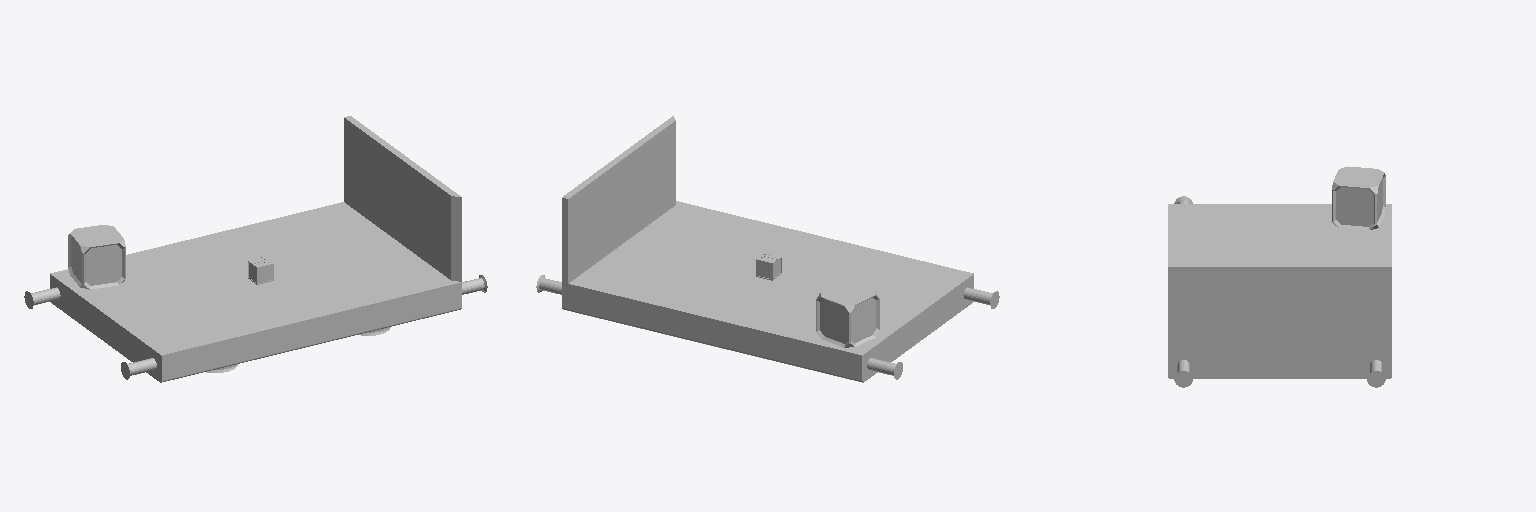
The model's file is levelTest.obj.
3 renders of one model, left to right at view 1: azimuth 30°, elevation 25°; view 2: azimuth 150°, elevation 25°; view 3: azimuth 270°, elevation 25°, orthographic.
Visible parts, largest first — view 1: F_floor_1.001, W_right_wall_down_1.001, Y_decoBox1_4.001, E_box_1.001; view 2: F_floor_1.001, W_right_wall_down_1.001, Y_decoBox1_4.001, E_box_1.001; view 3: W_right_wall_down_1.001, F_floor_1.001, Y_decoBox1_4.001.
Boxes of the visible parts, x1=… form: F_floor_1.001: x1=24, y1=202, x2=487, y2=382; W_right_wall_down_1.001: x1=344, y1=116, x2=461, y2=281; Y_decoBox1_4.001: x1=68, y1=225, x2=125, y2=289; E_box_1.001: x1=248, y1=257, x2=273, y2=284; F_floor_1.001: x1=536, y1=201, x2=999, y2=382; W_right_wall_down_1.001: x1=562, y1=116, x2=675, y2=283; Y_decoBox1_4.001: x1=816, y1=282, x2=879, y2=347; E_box_1.001: x1=756, y1=252, x2=781, y2=280; W_right_wall_down_1.001: x1=1168, y1=263, x2=1391, y2=350; F_floor_1.001: x1=1168, y1=196, x2=1391, y2=387; Y_decoBox1_4.001: x1=1332, y1=166, x2=1385, y2=230.
Size of the model in its own units: 13.27 by 4.45 by 7.19.